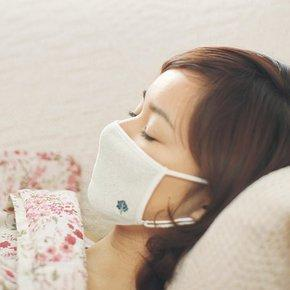OK: (90, 90, 208, 229)
